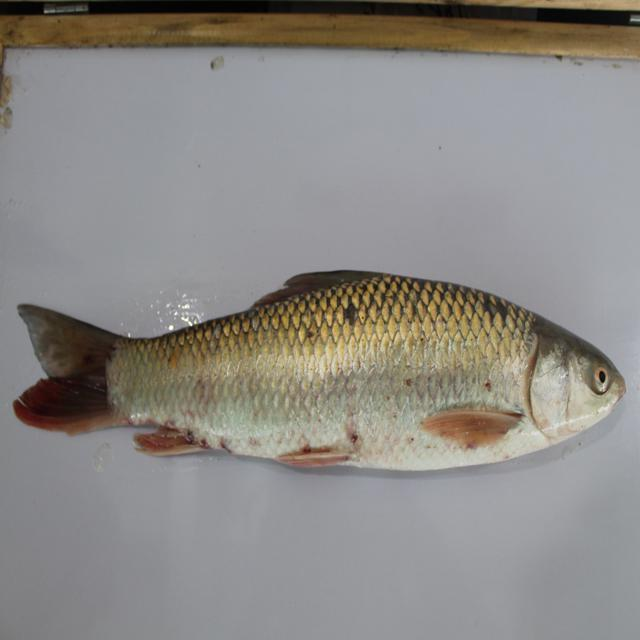Mori: (14, 254, 633, 493)
